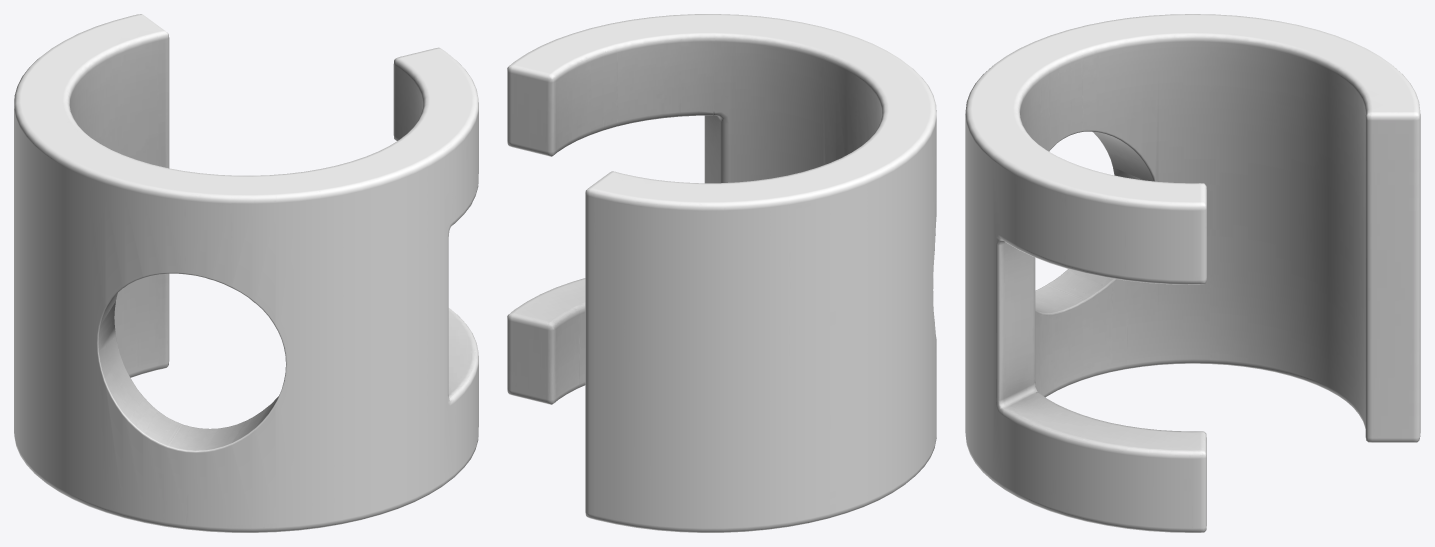
The model's file is clamp-transformed.glb.
3 renders of one model, left to right at view 1: azimuth 30°, elevation 25°; view 2: azimuth 150°, elevation 25°; view 3: azimuth 270°, elevation 25°, orthographic. The views are drawn at different scales.
Parts seen in each view (by area): view 1: Cylinder; view 2: Cylinder; view 3: Cylinder.
Part boxes in pixels (x1=…): Cylinder: x1=14, y1=14, x2=478, y2=532; Cylinder: x1=507, y1=14, x2=936, y2=532; Cylinder: x1=965, y1=14, x2=1420, y2=532.
Bounding box in the file's own units: 2 × 1.6 × 2.
1 material, 1 textured.
